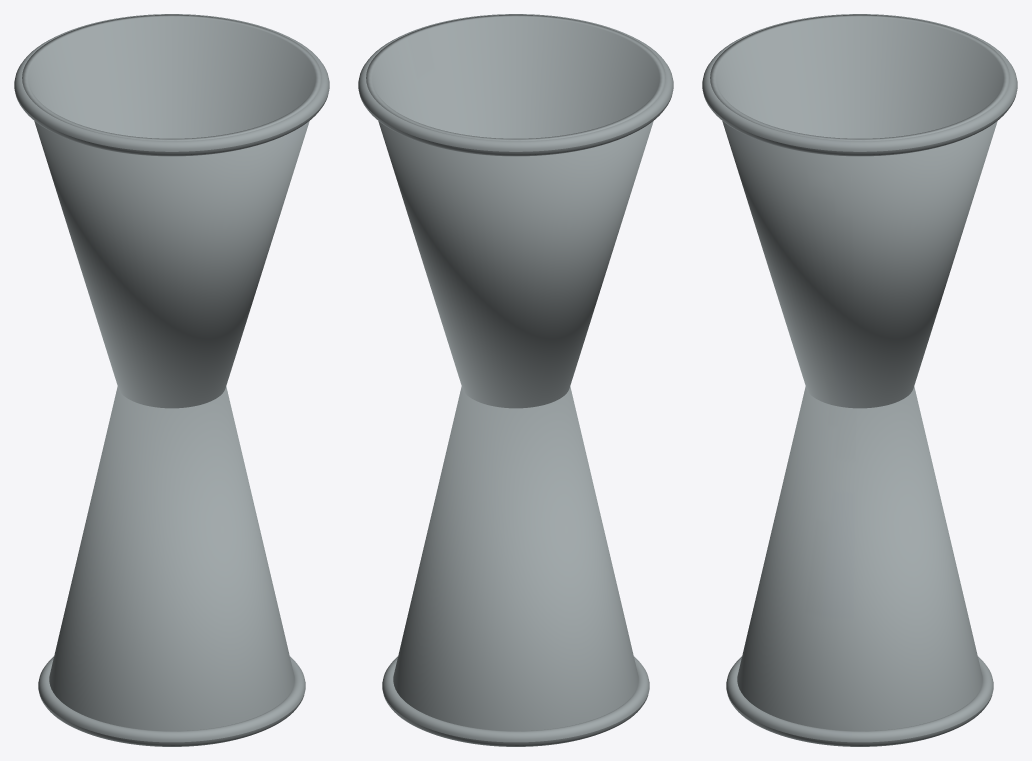
The model's file is cookware__cocktail_jigger.glb.
The picture shows the model from 3 angles, left to right: view 1: azimuth 30°, elevation 25°; view 2: azimuth 150°, elevation 25°; view 3: azimuth 270°, elevation 25°; orthographic projection.
Visible parts, largest first — view 1: jigger; view 2: jigger; view 3: jigger.
Part boxes in pixels (x1,y1,x2,y2): jigger: (14,14,329,746); jigger: (358,14,673,746); jigger: (702,14,1017,746).
Size of the model in its own units: 0.04 by 0.086 by 0.04.
1 material, 1 textured.
